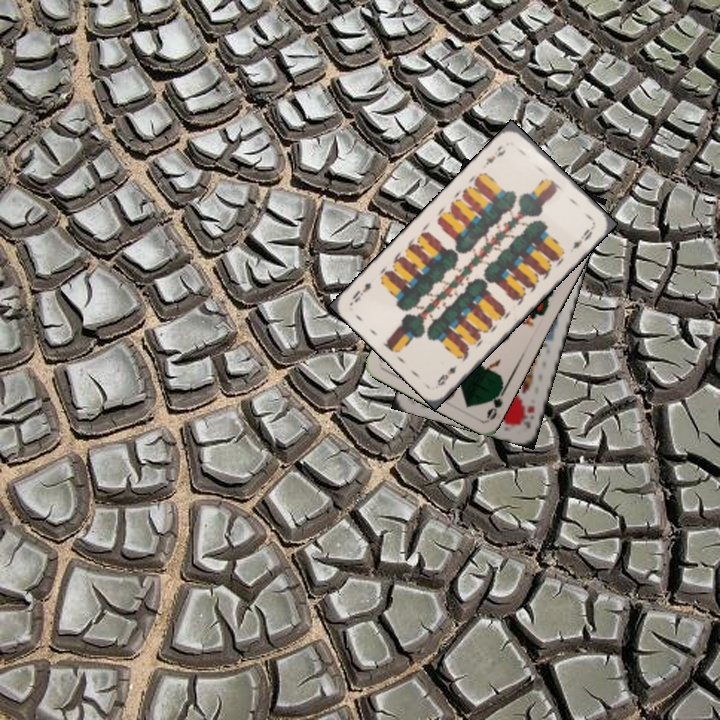E9: (433, 361, 460, 389), (481, 141, 508, 168)
GO: (482, 381, 509, 422)
HK: (516, 401, 538, 431)
